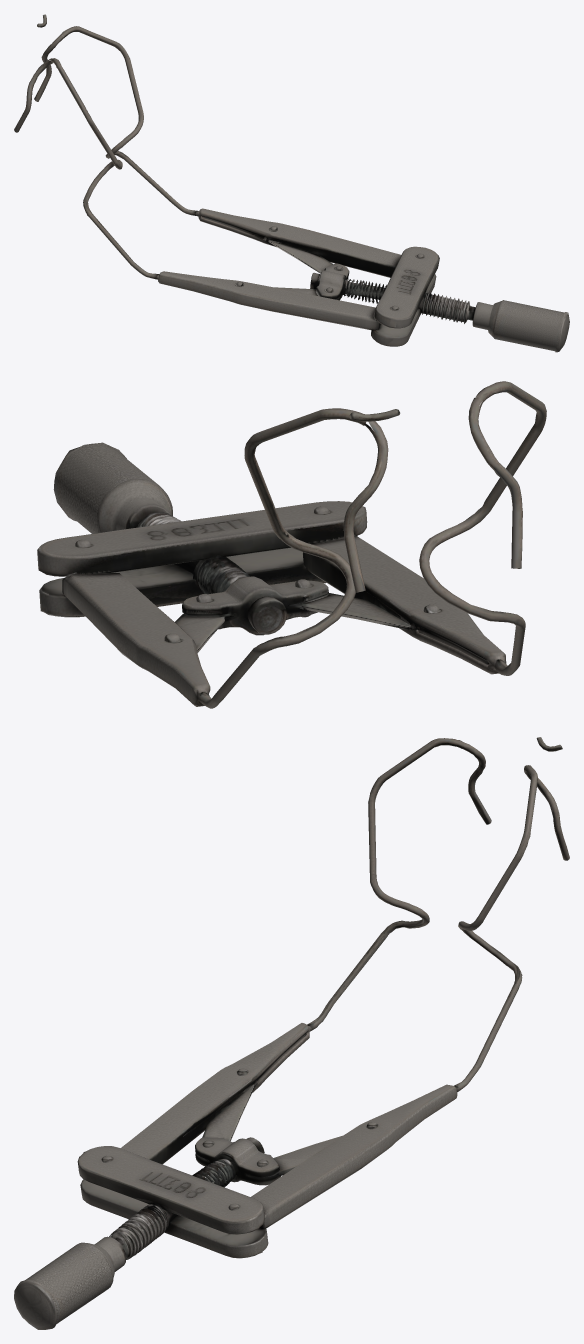
File: blefaróstato__B0001.glb
The picture shows the model from 3 angles, top to bottom: view 1: azimuth 30°, elevation 25°; view 2: azimuth 150°, elevation 25°; view 3: azimuth 270°, elevation 25°; orthographic projection. The views are drawn at different scales.
Parts seen in each view (by area): view 1: tripo_86f46718_43c0_4911_b705_7fa8cf1c9a43; view 2: tripo_86f46718_43c0_4911_b705_7fa8cf1c9a43; view 3: tripo_86f46718_43c0_4911_b705_7fa8cf1c9a43.
Part boxes in pixels (x1,y1,x2,y2): tripo_86f46718_43c0_4911_b705_7fa8cf1c9a43: (14,14,569,352); tripo_86f46718_43c0_4911_b705_7fa8cf1c9a43: (37,381,546,708); tripo_86f46718_43c0_4911_b705_7fa8cf1c9a43: (14,737,569,1329).
Bounding box in the file's own units: 0.9995 × 0.6665 × 0.9038.
Materials: 1 (1 with a texture image).
